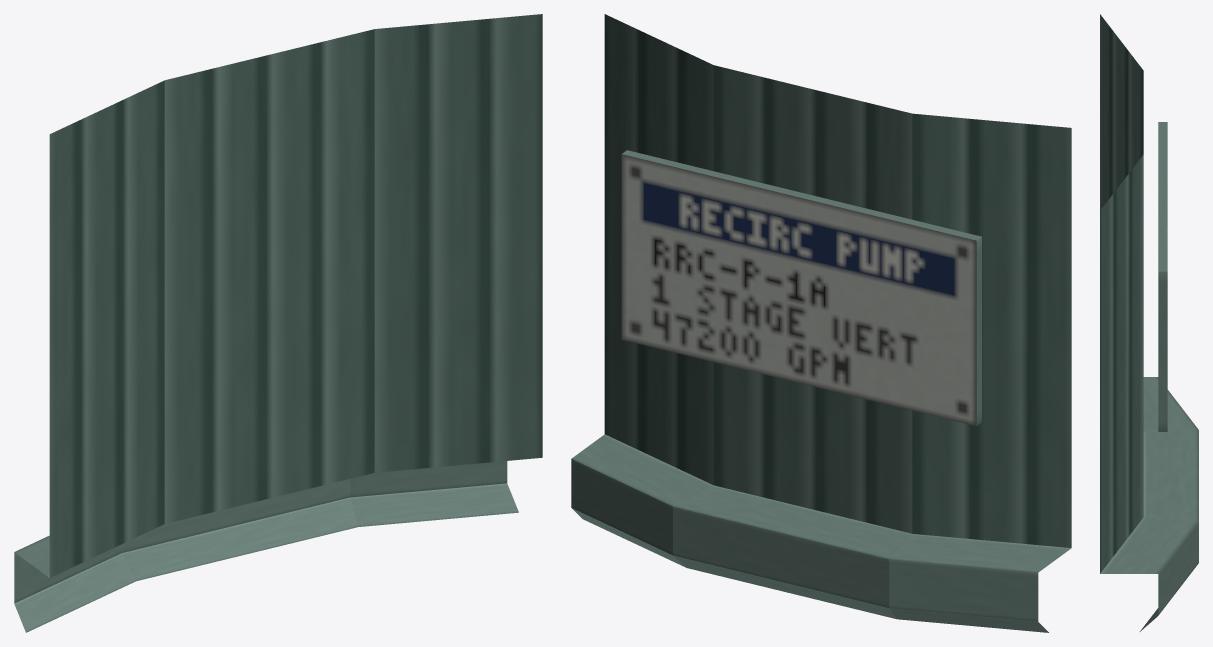
Rendered from cell_157.obj.
The picture shows the model from 3 angles, left to right: view 1: azimuth 30°, elevation 25°; view 2: azimuth 150°, elevation 25°; view 3: azimuth 270°, elevation 25°; orthographic projection. The views are drawn at different scales.
Bounding box in the file's own units: 1 × 1 × 0.2119.
